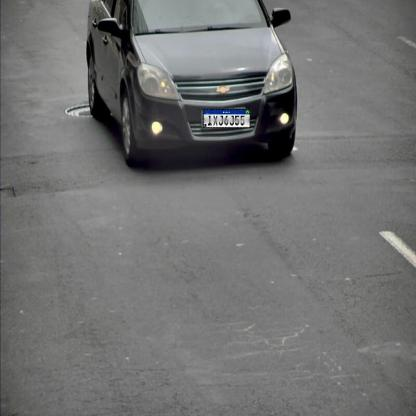PlacaM: (202, 109, 250, 128)
